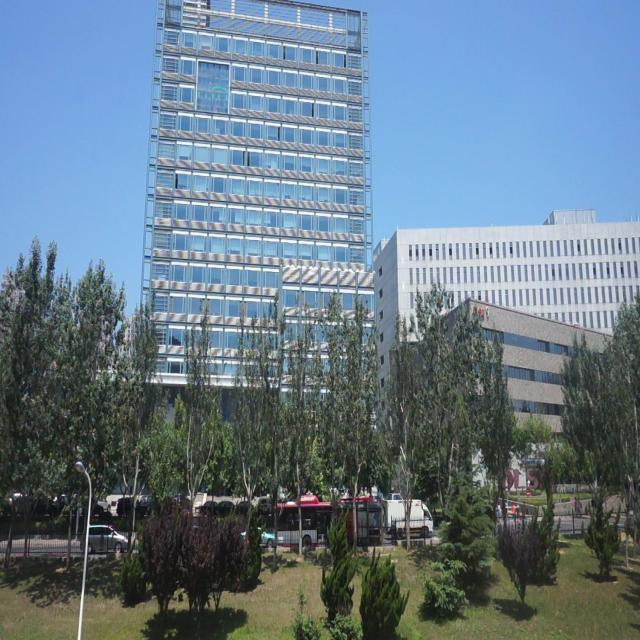UAV: (570, 322, 580, 328)
